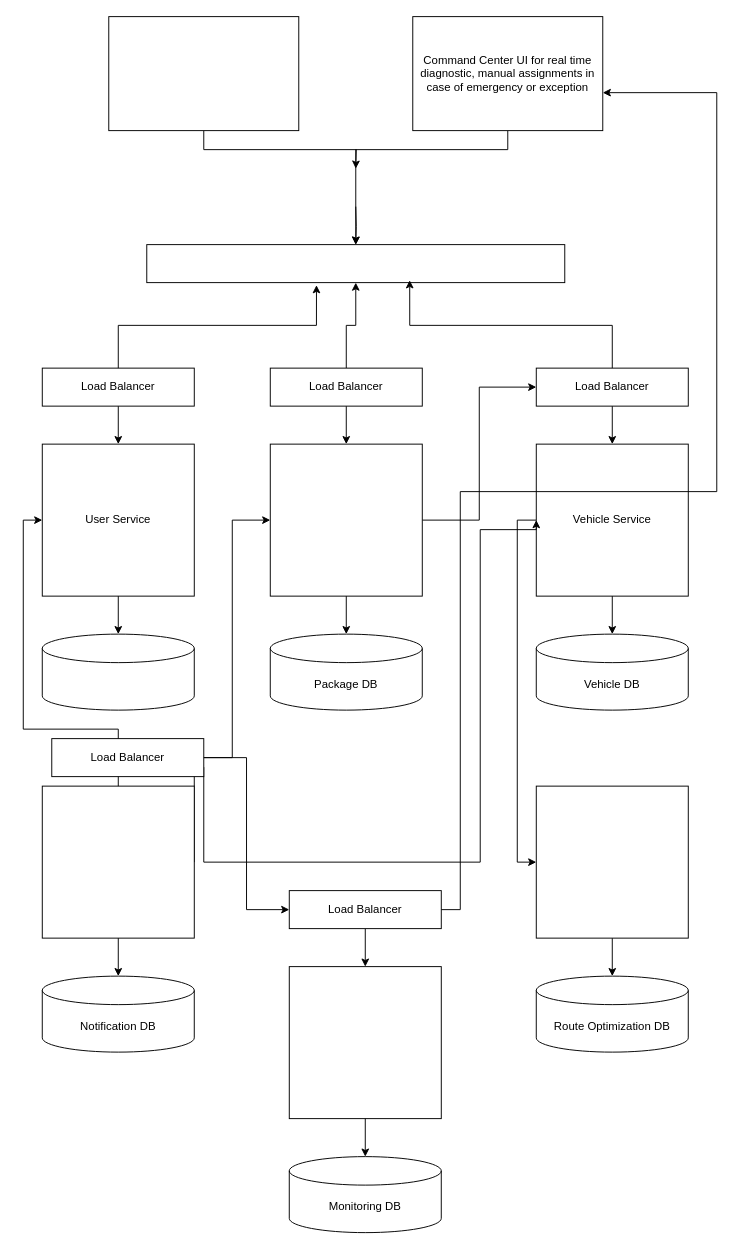
The diagram is 741 pixels wide and 1249 high, and some of its shapes have lost their labels. Here are the shapes that lost their labels. From the top down, the box of each, then its label:
(108, 16, 299, 131): Client UI for registration , ordering, tracking delivery
(146, 244, 565, 283): API Gateway
(269, 443, 422, 596): Package Management Service
(41, 633, 194, 710): User DB
(41, 785, 194, 938): Notification Service
(535, 785, 688, 938): Route Optimization Service
(288, 966, 441, 1119): Monitoring Diagnostics and Data Anaytics
